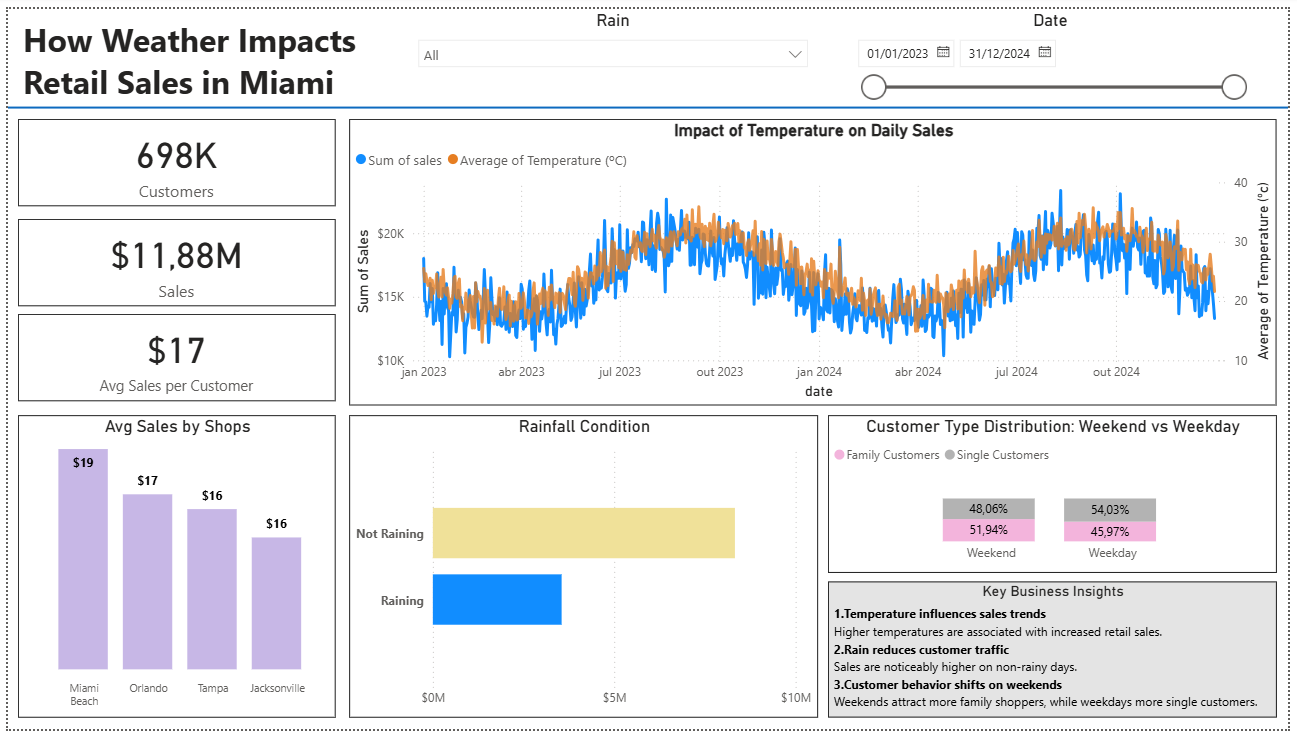

What the dashboard file says about the page in this screenshot:
{"tool":"powerbi","page":{"name":"Página 1","canvas":[1280,720],"ordinal":0},"visuals":[{"type":"lineChart","title":"Impact of Temperature on Daily Sales","fields":{"Category":["table_joined.date"],"Y":["Sum(table_joined.sales_usd)"],"Y2":["Avg(table_joined.avg_temp_c)"]},"box":[341.2,110,927.5,286.2],"z":0},{"type":"clusteredColumnChart","title":"Avg Sales by Shops","fields":{"Y":["Avg(table_joined.sales_per_customer)"],"Category":["table_joined.shop_name"]},"box":[10,406.2,317.5,302.5],"z":1000},{"type":"card","fields":{"Values":["Sum(table_joined.customers)"]},"box":[10,110,317.5,87.5],"z":2000},{"type":"card","fields":{"Values":["Sum(table_joined.sales_usd)"]},"box":[10,210,317.5,87.5],"z":3000},{"type":"shape","box":[0,80,1280,37.1],"z":4000},{"type":"textbox","box":[10,3.8,363.8,106.2],"z":5000},{"type":"slicer","title":"Date","fields":{"Values":["table_joined.date"]},"box":[837.1,1.4,410,98.6],"z":6000},{"type":"slicer","title":"Rain","fields":{"Values":["table_joined.is_rain"]},"box":[400,1.4,410,98.6],"z":7000},{"type":"card","fields":{"Values":["Avg(table_joined.sales_per_customer)"]},"box":[10,305,317.5,87],"z":8000},{"type":"clusteredBarChart","title":"Rainfall Condition","fields":{"Category":["table_joined.is_rain"],"Y":["Sum(table_joined.sales_usd)"]},"box":[341.2,406.2,468.8,302.5],"z":9000},{"type":"columnChart","title":"Customer Type Distribution: Weekend vs Weekday","fields":{"Category":["table_joined.is_weekend"],"Y":["Avg(table_joined.pct_family)","Avg(table_joined.pct_single)"]},"box":[820,406.2,448.8,157.5],"z":9001},{"type":"textbox","title":"Key Business Insights","box":[820,572.5,448.8,136.2],"z":9002}]}

Visuals, with their boxes in screenshot pixels (x1, y1, x2, y2), scaled from the page's 1280x720 canvas onto the 1297x741 screenshot:
"Impact of Temperature on Daily Sales" lineChart: l=346, t=113, r=1286, b=408
"Avg Sales by Shops" clusteredColumnChart: l=10, t=418, r=332, b=729
card - Sum(table_joined.customers): l=10, t=113, r=332, b=203
card - Sum(table_joined.sales_usd): l=10, t=216, r=332, b=306
shape: l=0, t=82, r=1296, b=121
textbox: l=10, t=4, r=379, b=113
"Date" slicer: l=848, t=1, r=1264, b=103
"Rain" slicer: l=405, t=1, r=821, b=103
card - Avg(table_joined.sales_per_customer): l=10, t=314, r=332, b=403
"Rainfall Condition" clusteredBarChart: l=346, t=418, r=821, b=729
"Customer Type Distribution: Weekend vs Weekday" columnChart: l=831, t=418, r=1286, b=580
"Key Business Insights" textbox: l=831, t=589, r=1286, b=729
